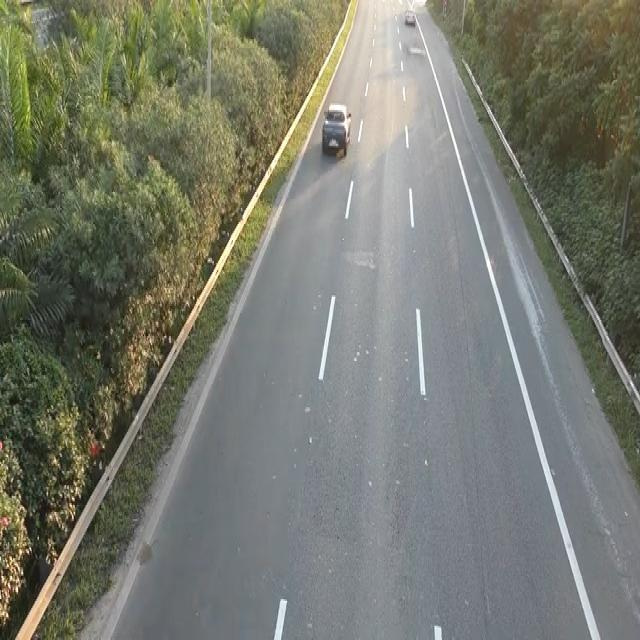car: (320, 100, 353, 158)
